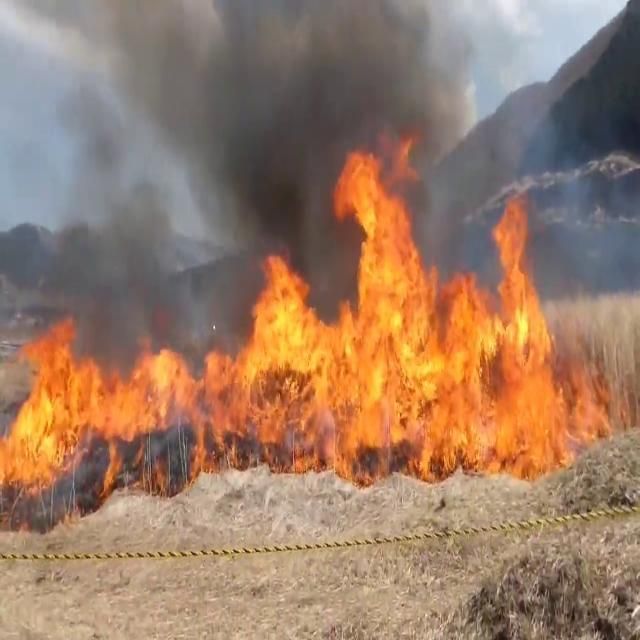Fire: (318, 146, 610, 472), (4, 248, 352, 507)
Smoke: (2, 0, 496, 340)
